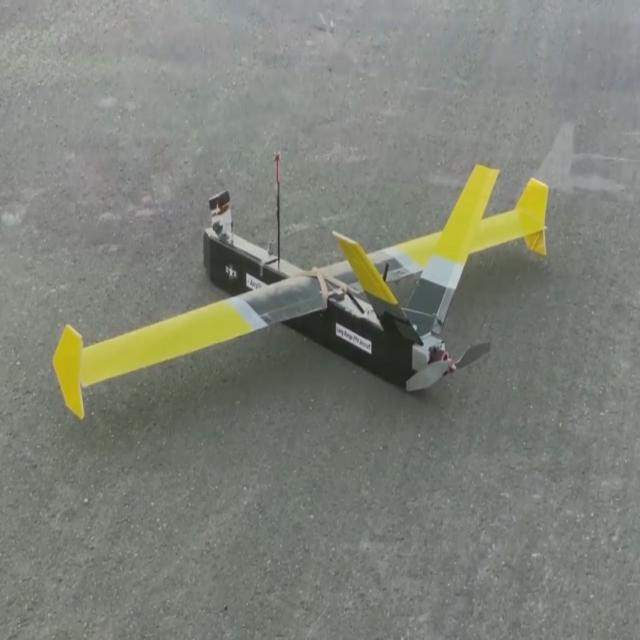iha: (19, 133, 549, 418)
